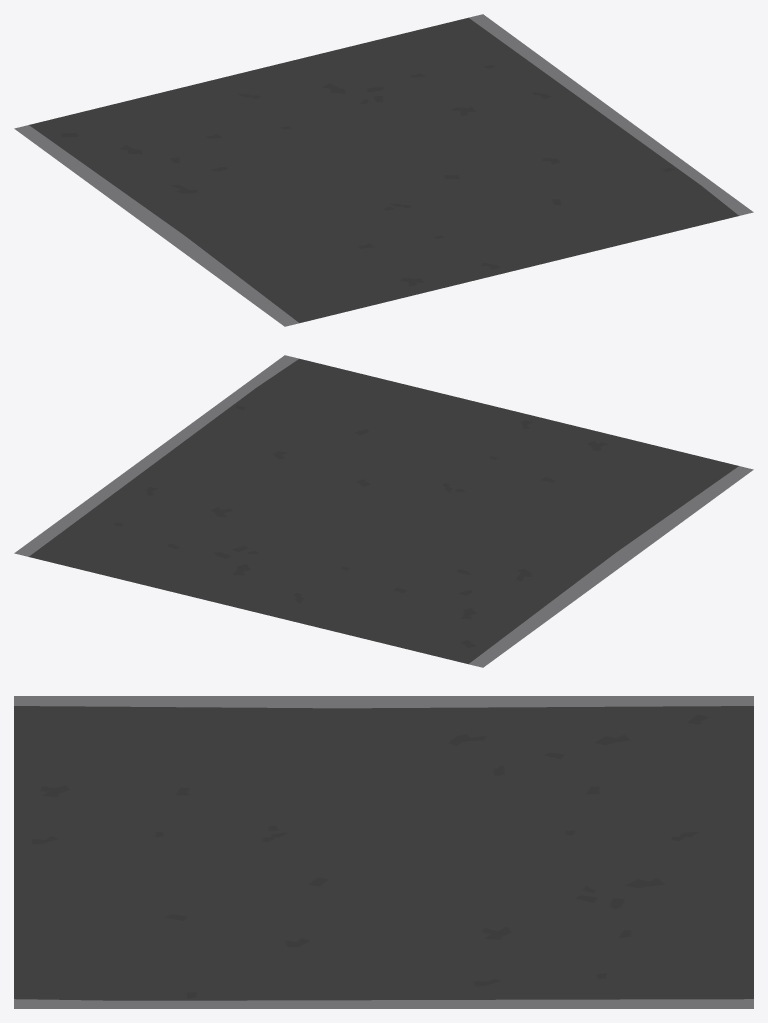
File: SM_Env_Road_Lines_01.glb
The picture shows the model from 3 angles, top to bottom: view 1: azimuth 30°, elevation 25°; view 2: azimuth 150°, elevation 25°; view 3: azimuth 270°, elevation 25°; orthographic projection. The views are drawn at different scales.
Visible parts, largest first — view 1: SM_Env_Road_Lines_01; view 2: SM_Env_Road_Lines_01; view 3: SM_Env_Road_Lines_01.
Boxes of the visible parts, x1,y1,x2,y2 form: SM_Env_Road_Lines_01: [14, 14, 753, 326]; SM_Env_Road_Lines_01: [14, 355, 753, 667]; SM_Env_Road_Lines_01: [14, 696, 753, 1008].
Bounding box in the file's own units: 5 × 0 × 5.
Materials: 1 (1 with a texture image).
